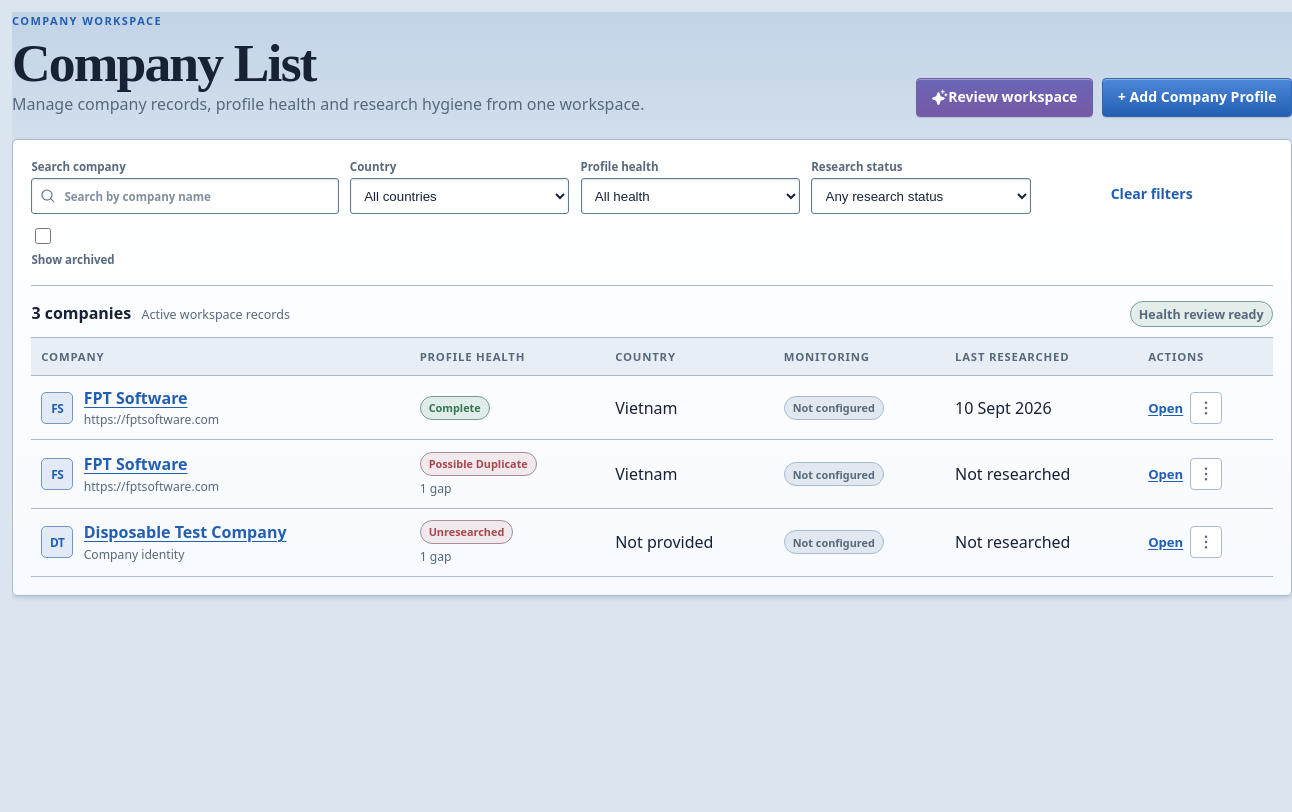
Test: archives a company from the row action menu
Expected: the number of links "FPT Software" is 2, [84, 387, 188, 409]; [84, 453, 188, 475]
What coordinates should you click on to do the following:
click the button named "Actions for FPT Software" in the row of "Complete"
I would click on:
 (1206, 408)
Its box is [1190, 392, 1222, 424].
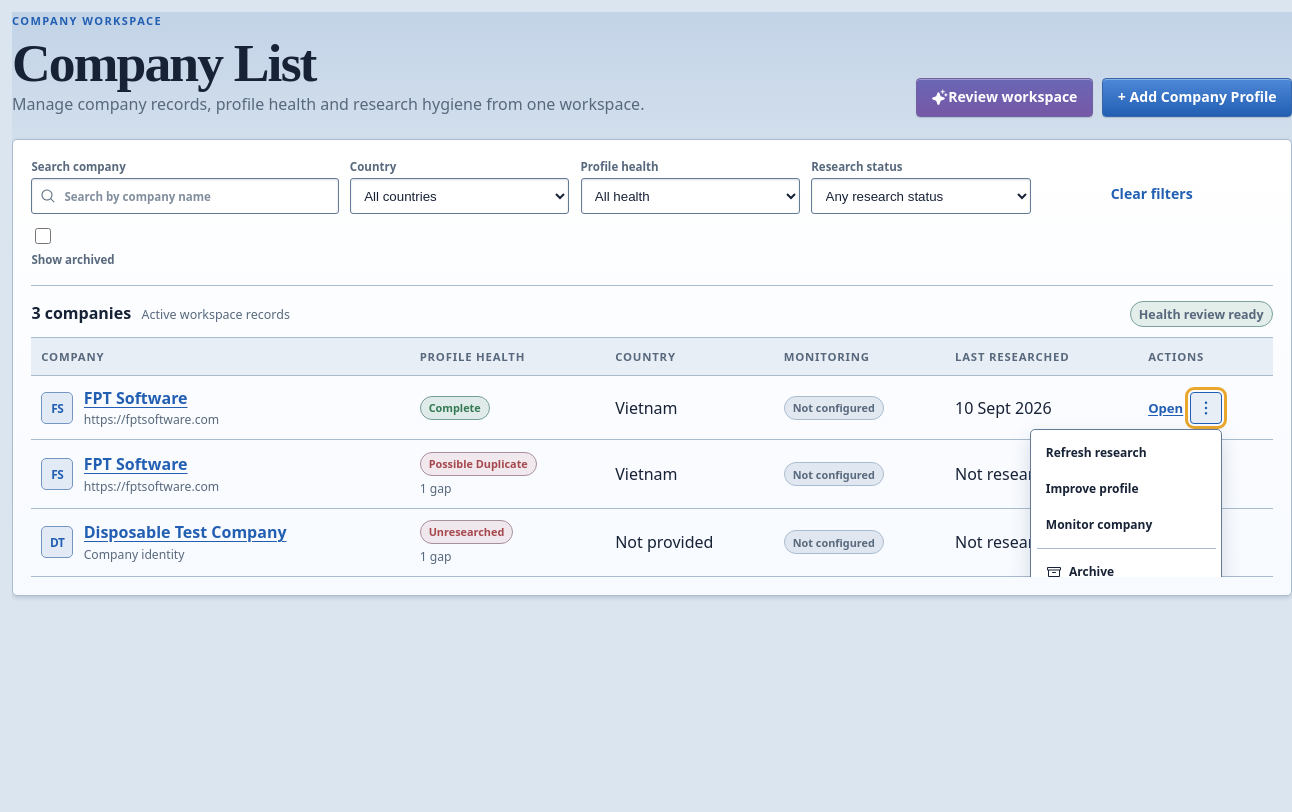
What coordinates should you click on to do the following:
click the menu item "Archive"
I would click on:
 (1126, 572)
Its box is [1037, 555, 1216, 589].
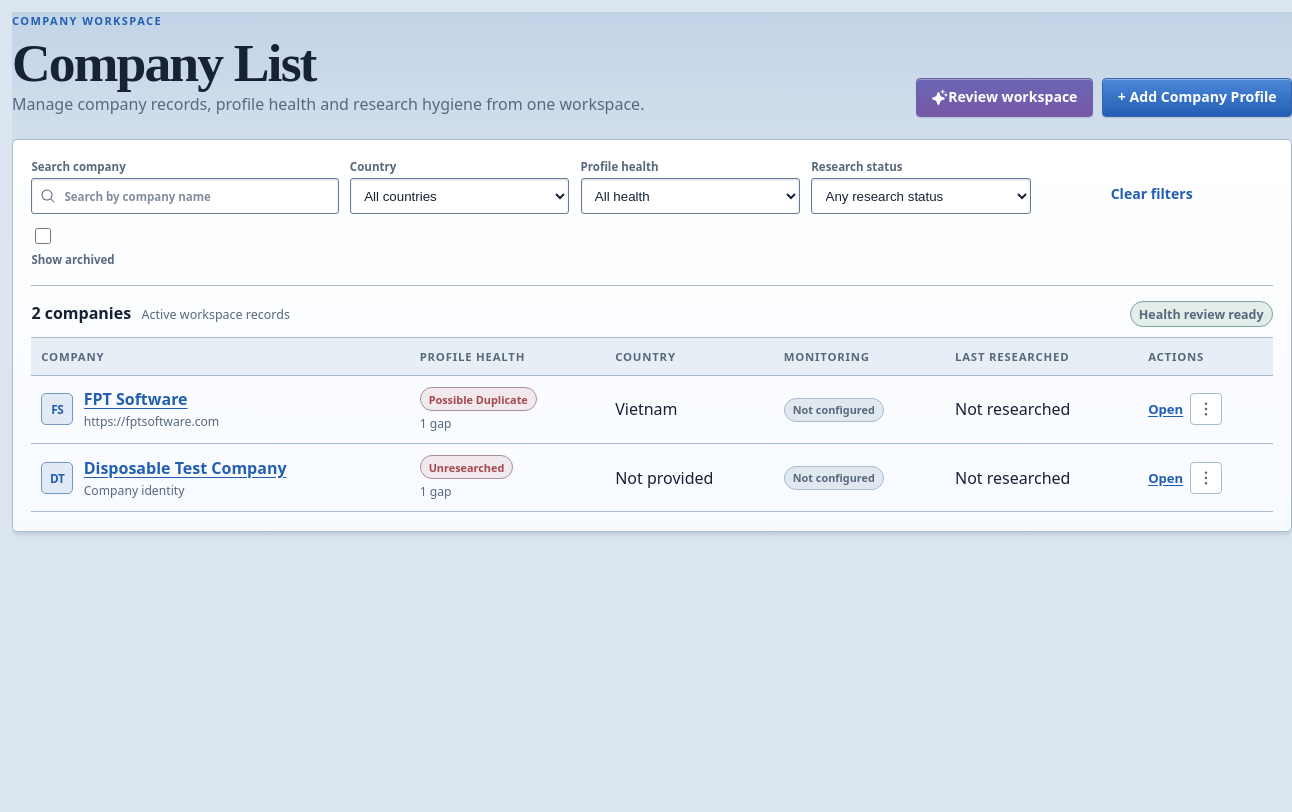
Expected: the number of links "FPT Software" is 1, [84, 388, 188, 410]
